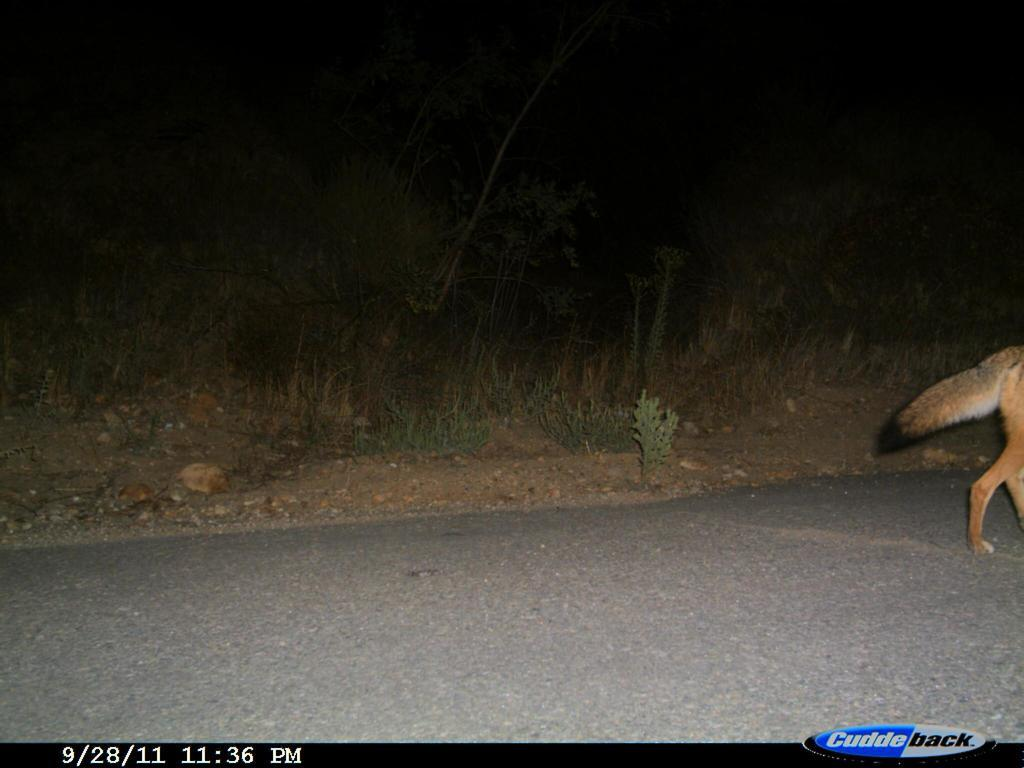coyote: (872, 317, 1023, 591)
